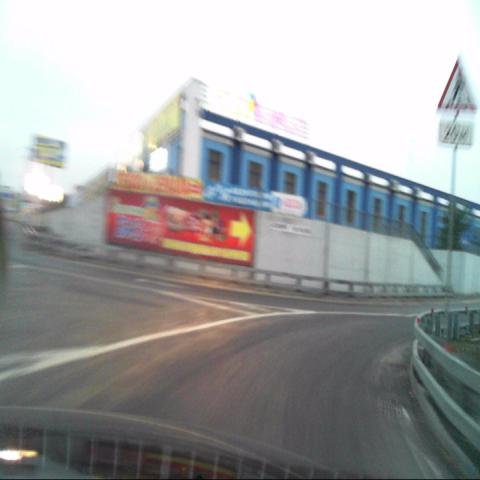8_1_1: (440, 119, 474, 147)
